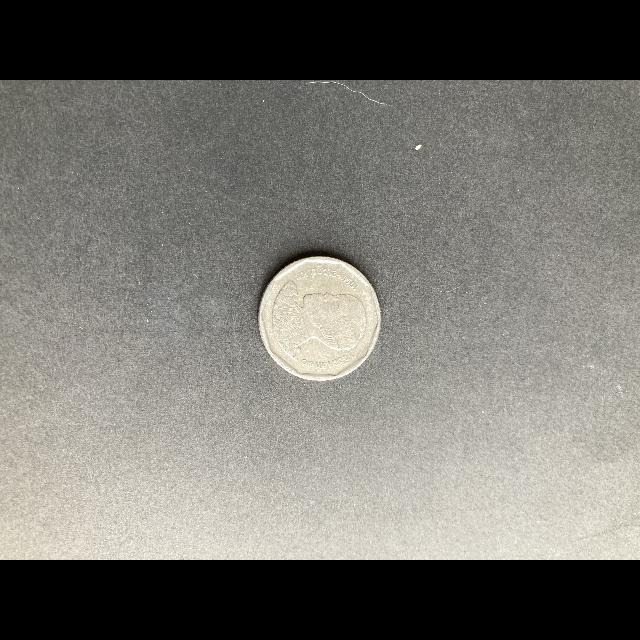5 Bath: (257, 255, 387, 386)
